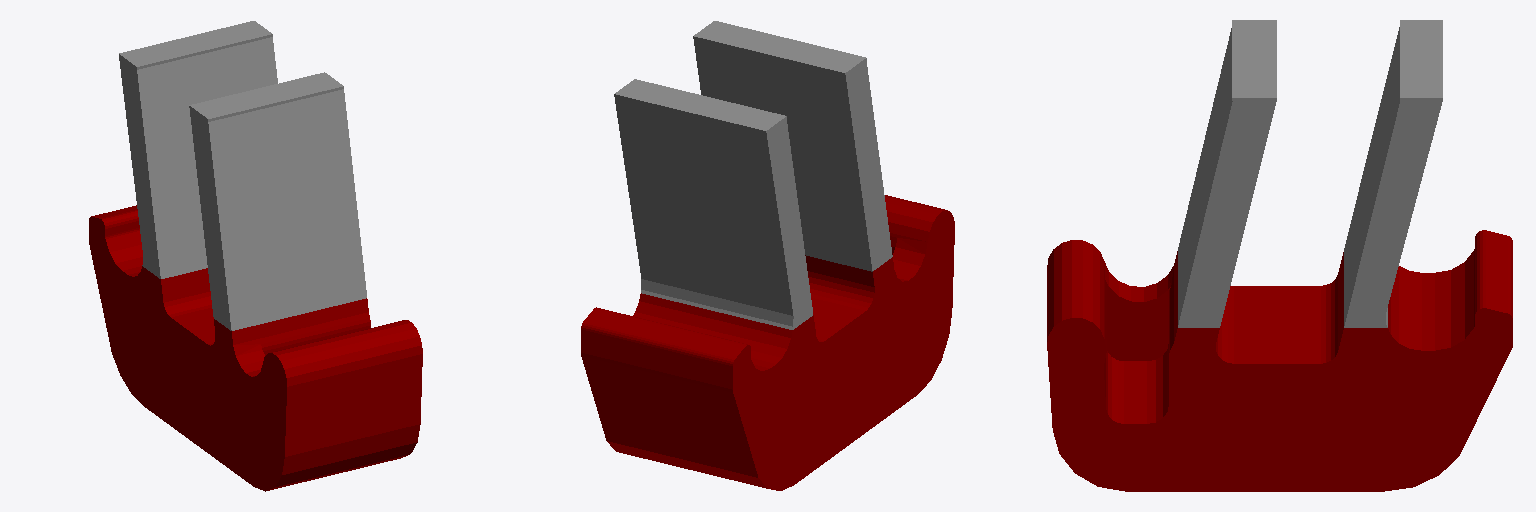
robot.urdf — W_QS_1:
<?xml version="0.0" ?>
<robot name="W_QS_1">
  <link name="main">
<!--     <contact>
      <lateral_friction value=".5"/>
    </contact> -->
    <inertial>
      <origin rpy="0 0 0" xyz="0.00254035 0.0283939 0.0206241"/>
       <mass value="0.007"/>
       <inertia ixx="1.763E-06" ixy="1.377E-06" ixz="4.158E-07" iyy="4.158E-07" iyz="1.763E-06" izz="1.377E-06"/>
    </inertial>
    <visual>
      <origin rpy="0 0 0" xyz="0 0 0"/>
      <geometry>
				<mesh filename="W_QS_Main_1.obj" scale="1 1 1"/>
      </geometry>
      <material name="WS_gray">
        <color rgba="0.6 0.6 0.6 1"/>
      </material>
    </visual>
    <collision>
      <origin rpy="0 0 0" xyz="0 0 0"/>
      <geometry>
				<mesh filename="W_QS_Main_1.obj" scale="1 1 1"/>
      </geometry>
    </collision>
  </link>

  <joint name="main_to_hinge_left_back" type="fixed">
    <parent link="main"/>
    <child link="hinge_left_back"/>
    <origin xyz="0 0.005742 0.012" rpy="0 0 0"/>
  </joint>

  <link name="hinge_left_back">
    <inertial>
      <origin rpy="0 0 0" xyz="0.00255 0.00498658 0.00852295"/>
       <mass value="4.526E-05"/>
       <inertia ixx="1.995E-10" ixy="1.127E-10" ixz="2.829E-10" iyy="2.829E-10" iyz="1.995E-10" izz="1.127E-10"/>
    </inertial>
    <visual>
      <origin rpy="0 0 0" xyz="0 -0.005742 -0.012"/>
      <geometry>
				<mesh filename="W_QS_LeftS_1.obj" scale="1 1 1"/>
      </geometry>
      <material name="WS_gray">
        <color rgba="0.6 0.6 0.6 1"/>
      </material>
    </visual>
    <collision>
      <origin rpy="0 0 0" xyz="0 -0.005742 -0.012"/>
      <geometry>
				<mesh filename="W_QS_LeftS_1.obj" scale="1 1 1"/>
      </geometry>
    </collision>
  </link>

  <joint name="main_to_hinge_right_front" type="fixed">
    <parent link="main"/>
    <child link="hinge_right_front"/>
    <origin xyz="0 0.01038 0.012" rpy="0 0 0"/>
  </joint>

  <link name="hinge_right_front">
    <inertial>
      <origin rpy="0 0 0" xyz="0.00255 0.00957389 0.00855116"/>
       <mass value="4.239E-05"/>
       <inertia ixx="1.879E-10" ixy="1.057E-10" ixz="2.660E-10" iyy="2.660E-10" iyz="1.879E-10" izz="1.057E-10"/>
    </inertial>
    <visual>
      <origin rpy="0 0 0" xyz="0 -0.01038 -0.012"/>
      <geometry>
				<mesh filename="W_QS_RightS_1.obj" scale="1 1 1"/>
      </geometry>
      <material name="WS_gray">
        <color rgba="0.6 0.6 0.6 1"/>
      </material>
    </visual>
    <collision>
      <origin rpy="0 0 0" xyz="0 -0.01038 -0.012"/>
      <geometry>
				<mesh filename="W_QS_RightS_1.obj" scale="1 1 1"/>
      </geometry>
    </collision>
  </link>

  <joint name="hinge_left_back_to_clip" type="prismatic">
    <parent link="hinge_left_back"/>
    <child link="clip"/>
    <origin xyz="0 -0.001542 -0.007" rpy="0 0 0"/>
    <axis xyz="0 1 0"/>
    <limit lower="-0.0009" upper="0"
           effort="300" velocity="3.14159265359" />
    <safety_controller soft_lower_limit="-0.0009"
                       soft_upper_limit="0"
                       k_position="100"
                       k_velocity="2"/>
    <dynamics damping="0.5"/>
  </joint>

  <!-- 0 0.005742 0.012 -->

  <!-- <joint name="hinge_right_front_to_clip" type="revolute">
    <parent link="hinge_right_front"/>
    <child link="clip"/>
    <origin xyz="0.005109 0.00885 0.005" rpy="0 0 0"/>
    <axis xyz="0 0 1"/>
    <limit lower="-0.01" upper="0.01"
           effort="300" velocity="3.14159265359" />
    <safety_controller soft_lower_limit="-3.01941960595"
                       soft_upper_limit="3.01941960595"
                       k_position="100"
                       k_velocity="2"/>
    <dynamics damping="0.5"/>
  </joint> -->

  <link name="clip">
    <inertial>
      <origin rpy="0 0 0" xyz="0.00252297 0.0063662 0.00238966"/>
       <mass value="2.681E-04"/>
       <inertia ixx="3.829E-09" ixy="3.915E-09" ixz="1.091E-09" iyy="1.091E-09" iyz="3.829E-09" izz="3.915E-09"/>
    </inertial>
    <visual>
      <origin rpy="0 0 0" xyz="0 -0.0042 -0.005"/>
      <geometry>
				<mesh filename="W_QS_ClipS_1.obj" scale="1 1 1"/>
      </geometry>
       <material name="WS_red">
        <color rgba="0.6 0 0 1"/>
      </material>
    </visual>
    <collision>
      <origin rpy="0 0 0" xyz="0 -0.0042 -0.005"/>
      <geometry>
				<mesh filename="W_QS_ClipS_1.obj" scale="1 1 1"/>
      </geometry>
    </collision>
  </link>
</robot>

--- Render facts (derived) ---
The picture shows the robot from 3 angles, left to right: view 1: azimuth 30°, elevation 25°; view 2: azimuth 150°, elevation 25°; view 3: azimuth 270°, elevation 25°; orthographic projection.
Robot: W_QS_1 — 4 links, 3 joints (1 prismatic, 2 fixed); root link main; default pose: all joints at 0.
Visible links, largest first — view 1: clip, hinge_left_back, hinge_right_front; view 2: clip, hinge_right_front, hinge_left_back; view 3: clip, hinge_left_back, hinge_right_front.
Link boxes in pixels (box(x1,y1,x2,y2)): clip: box(89, 205, 422, 491); hinge_left_back: box(189, 72, 366, 330); hinge_right_front: box(119, 21, 277, 278); clip: box(581, 195, 954, 490); hinge_right_front: box(614, 79, 812, 329); hinge_left_back: box(693, 21, 892, 271); clip: box(1047, 230, 1512, 491); hinge_left_back: box(1178, 20, 1276, 327); hinge_right_front: box(1344, 20, 1442, 327).
Size in the robot's own frame: 0.0051 by 0.0129 by 0.012 metres.
3 mesh visuals loaded from 4 distinct referenced files (3 OBJ); not drawn: 1 (reference not matched to a file when rendering).